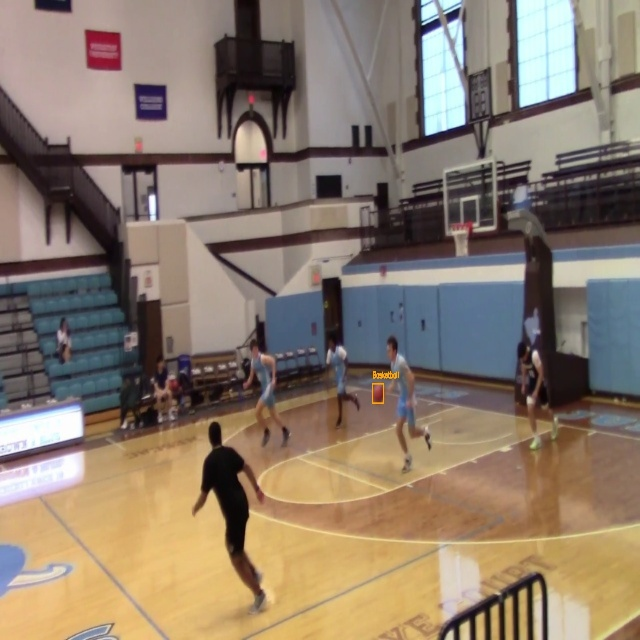Basketball: (373, 384, 384, 403)
